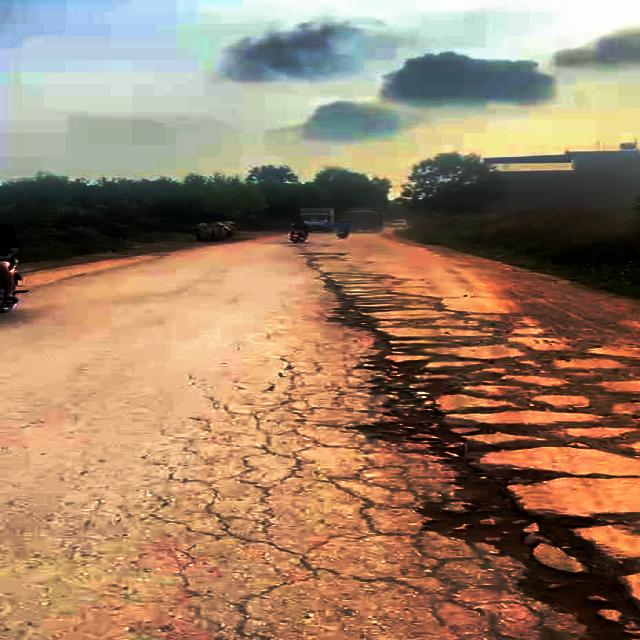pothole: (419, 464, 640, 638), (346, 362, 545, 464), (327, 284, 463, 365)
